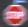Stop sign: (0, 0, 27, 26)
